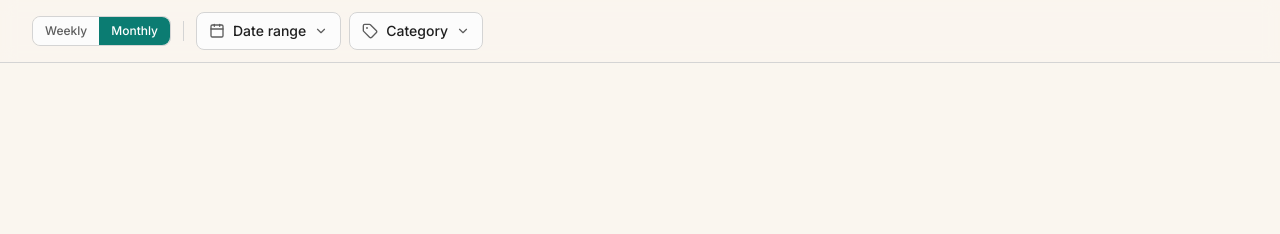
Test: FilterBar › category dropdown › shows available categories as options
The width and height of the screenshot is (1280, 234).
What coordinates should you click on to do the following:
click the button with aria-label "filter by category"
I would click on:
 (416, 31)
Its box is [349,12,483,50].
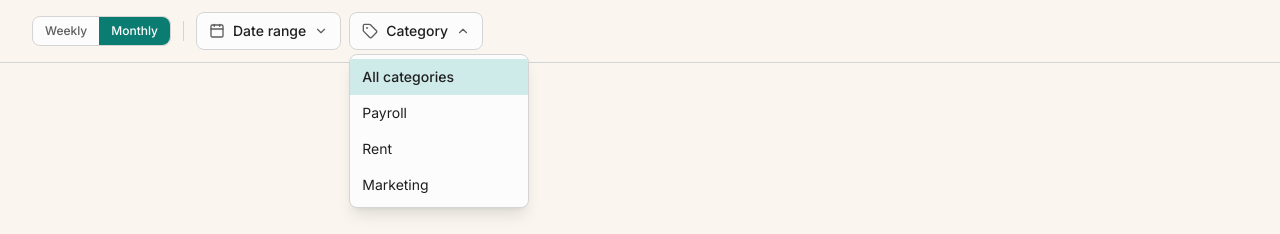
Expected: the option "All categories" is shown, [350,59,528,95]
Expected: the option "Payroll" is shown, [362,104,407,121]
Expected: the option "Rent" is shown, [362,140,392,157]
